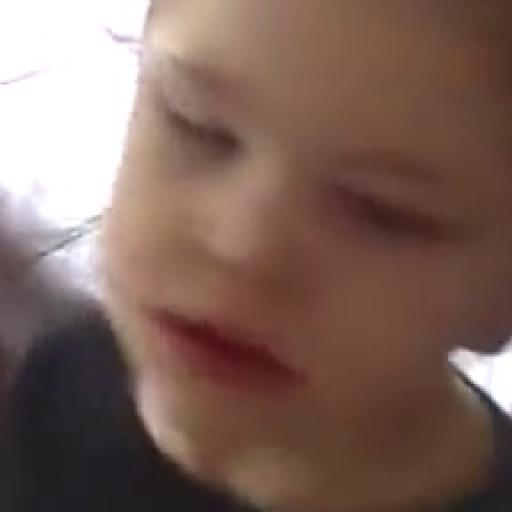Autism: (94, 12, 512, 496)
